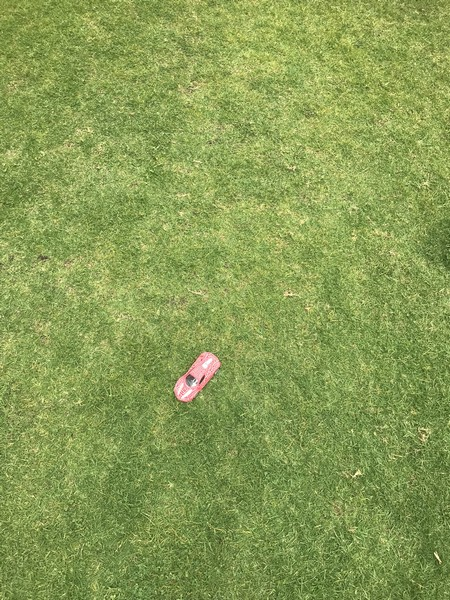RC: (172, 348, 225, 407)
